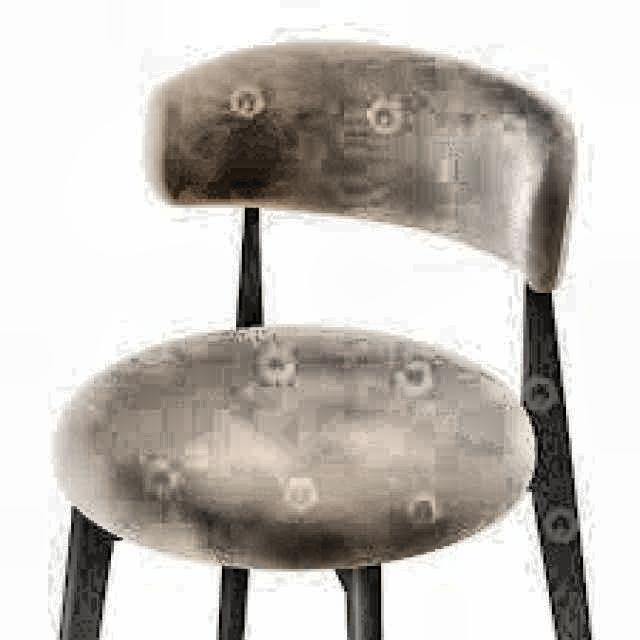cadeira: (44, 34, 599, 640), (143, 51, 572, 505)
